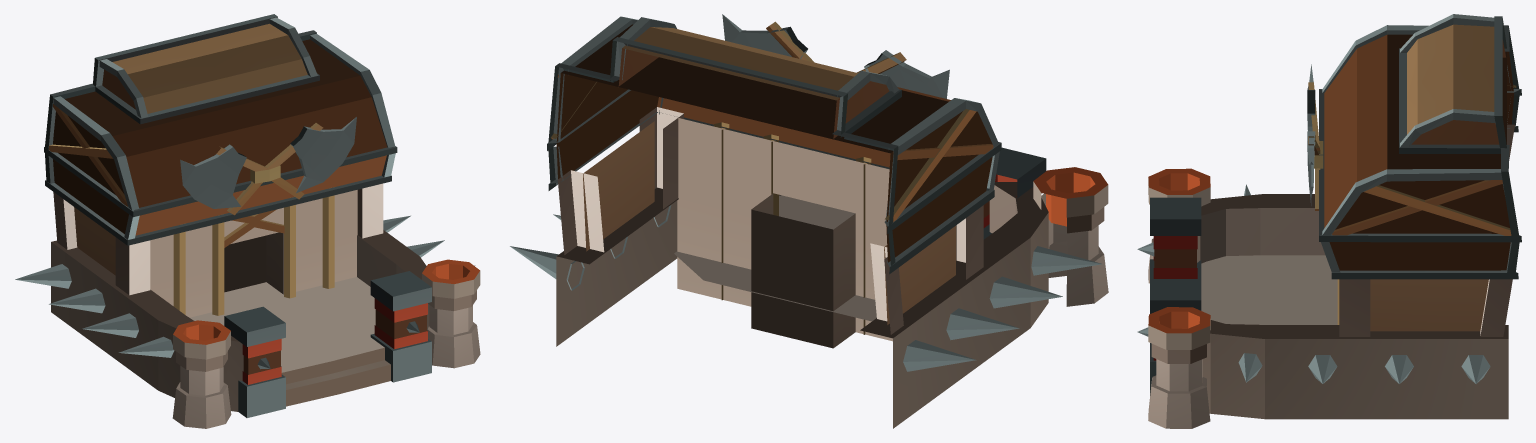
The model's file is building38.fbx.
3 renders of one model, left to right at view 1: azimuth 30°, elevation 25°; view 2: azimuth 150°, elevation 25°; view 3: azimuth 270°, elevation 25°, orthographic. The views are drawn at different scales.
Parts seen in each view (by area): view 1: building38; view 2: building38; view 3: building38.
Part boxes in pixels (left/top/right/bottom): building38: left=15, top=14, right=480, bottom=428; building38: left=510, top=14, right=1108, bottom=428; building38: left=1137, top=14, right=1521, bottom=428.
Bounding box in the file's own units: 2.76 × 1.81 × 2.23.
1 material, 1 textured.
